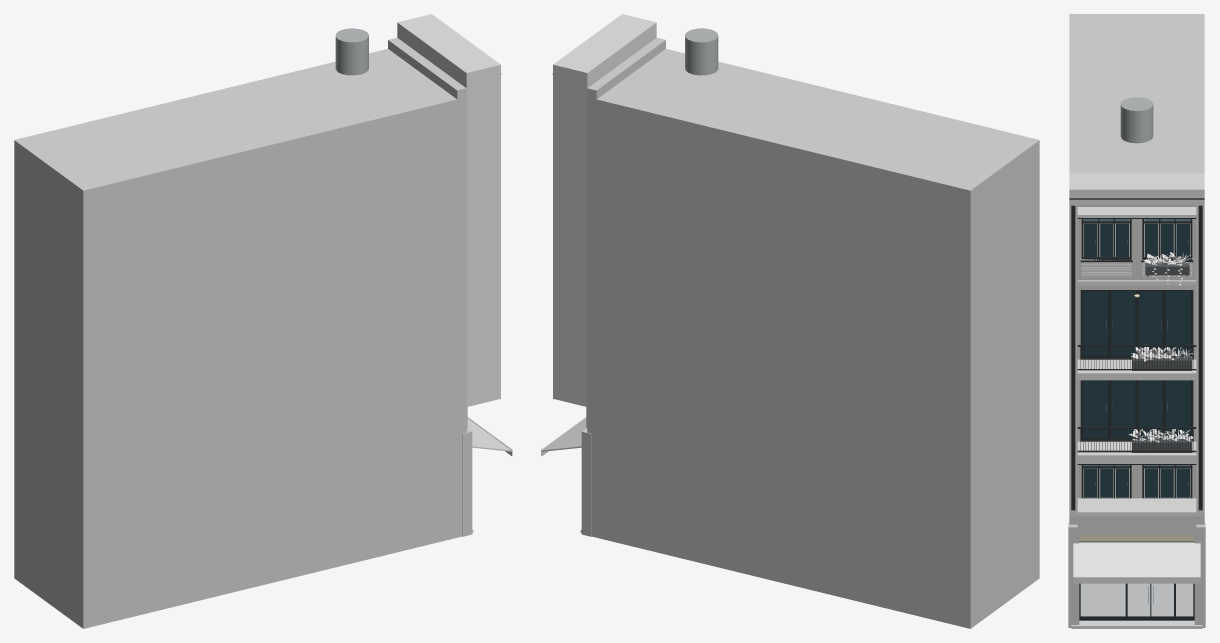
File: OW_Mau_NhaPho_5_0_1_B.fbx
The picture shows the model from 3 angles, left to right: view 1: azimuth 30°, elevation 25°; view 2: azimuth 150°, elevation 25°; view 3: azimuth 270°, elevation 25°; orthographic projection. The views are drawn at different scales.
Parts seen in each view (by area): view 1: OW_NhaPho_9011; view 2: OW_NhaPho_9011; view 3: OW_NhaPho_9011, OW_MatTienKinh.
Boxes of the visible parts, bbox=[...] form: OW_NhaPho_9011: bbox=[14, 14, 512, 628]; OW_NhaPho_9011: bbox=[541, 14, 1039, 628]; OW_NhaPho_9011: bbox=[1068, 14, 1205, 628]; OW_MatTienKinh: bbox=[1079, 534, 1194, 620].
Bounding box in the file's own units: 17.77 × 19.45 × 5.
